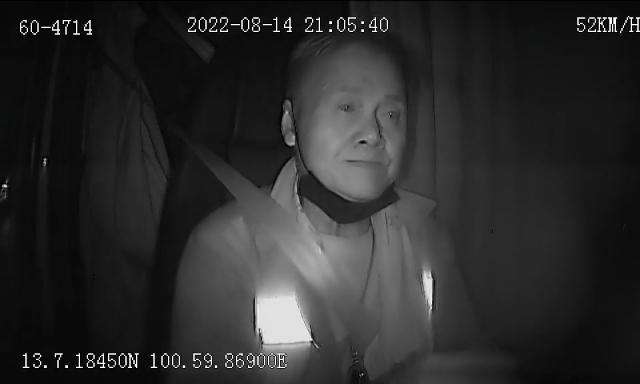SafeDriving: (374, 96, 406, 130), (330, 91, 364, 121)
Seatbelt: (187, 136, 383, 354)
